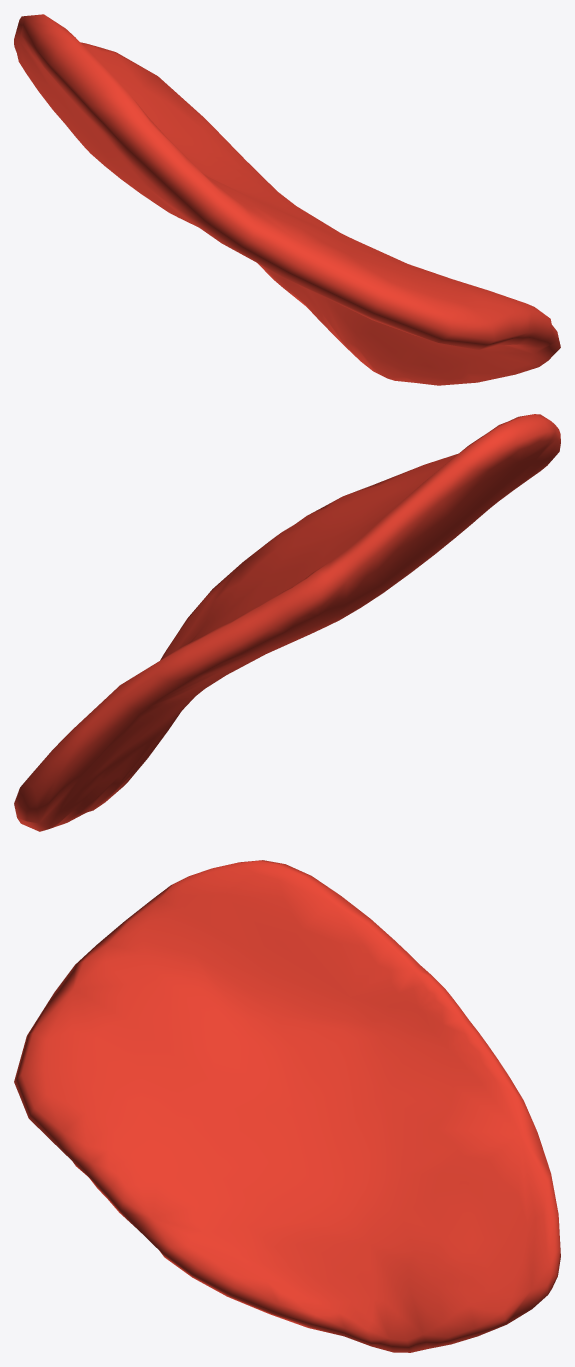
File: Biceps_brachii_long_head_infraglenoid_tubercle_scapula_right.glb
3 renders of one model, top to bottom at view 1: azimuth 30°, elevation 25°; view 2: azimuth 150°, elevation 25°; view 3: azimuth 270°, elevation 25°, orthographic. The views are drawn at different scales.
Visible parts, largest first — view 1: Long_head_of_biceps_brachii_on_infraglenoid_tubercle_of_scap; view 2: Long_head_of_biceps_brachii_on_infraglenoid_tubercle_of_scap; view 3: Long_head_of_biceps_brachii_on_infraglenoid_tubercle_of_scap.
Part boxes in pixels (bbox=[...]): Long_head_of_biceps_brachii_on_infraglenoid_tubercle_of_scap: bbox=[14, 14, 560, 385]; Long_head_of_biceps_brachii_on_infraglenoid_tubercle_of_scap: bbox=[14, 414, 560, 831]; Long_head_of_biceps_brachii_on_infraglenoid_tubercle_of_scap: bbox=[14, 860, 560, 1352].
Bounding box in the file's own units: 0.00598 × 0.0063 × 0.00893.
